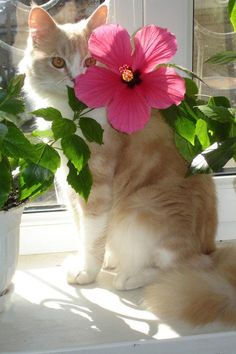Hibiscus: (75, 20, 185, 131)
